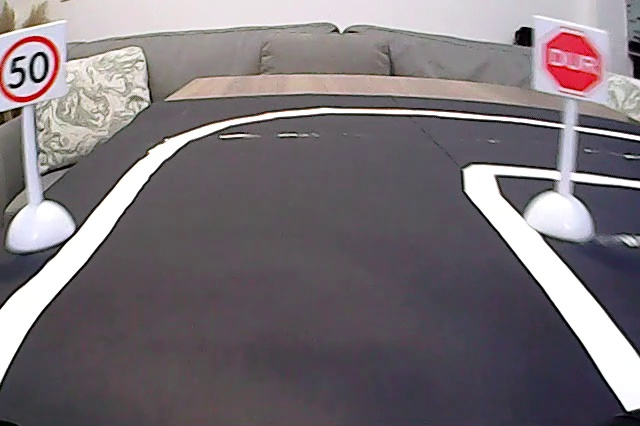speed limit 50: (1, 33, 64, 105)
stop sign: (535, 18, 607, 100)
